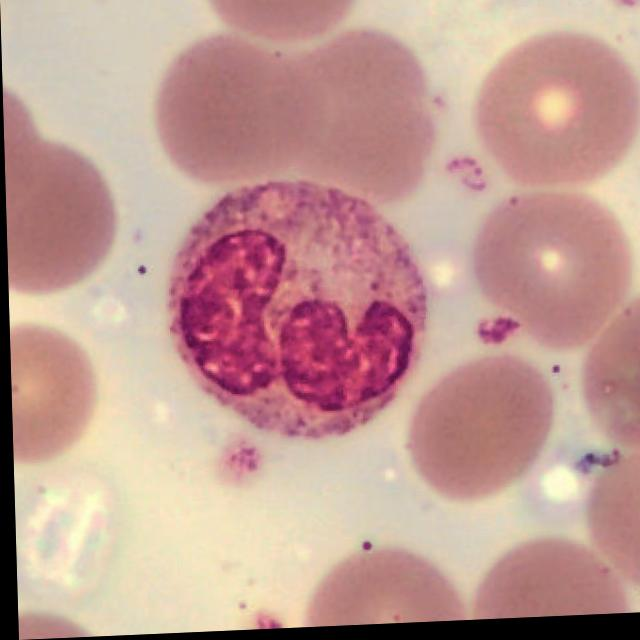Neutrofilo segmentado: (166, 180, 426, 441)
